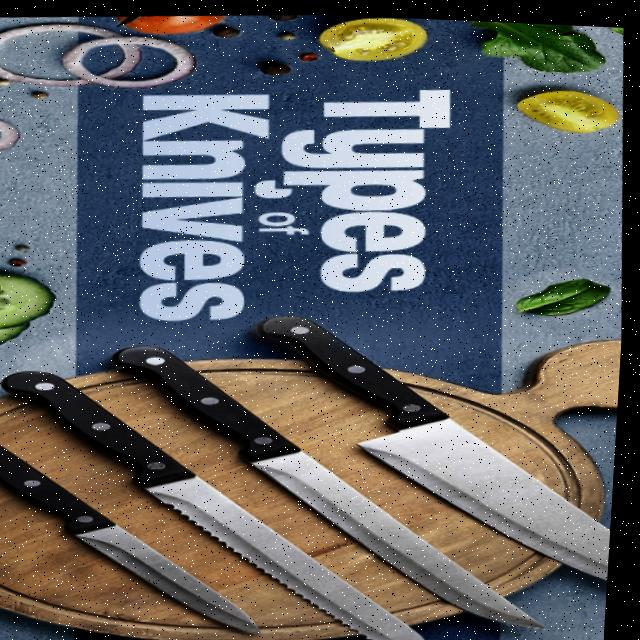knife: (100, 322, 569, 640), (0, 347, 450, 640), (248, 292, 627, 597), (0, 416, 282, 640)
